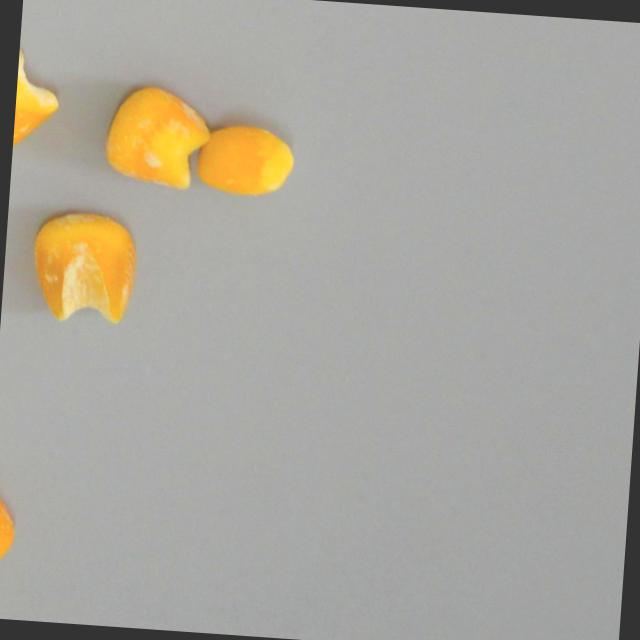dañado: (23, 201, 142, 332), (11, 40, 67, 157), (0, 475, 18, 583)
pelicula: (95, 79, 213, 197), (193, 118, 296, 199)
